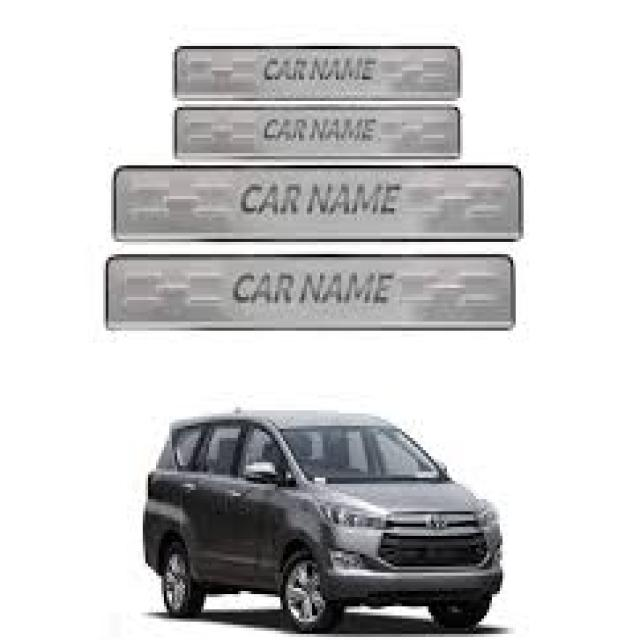light_vehicle: (142, 408, 505, 635)
